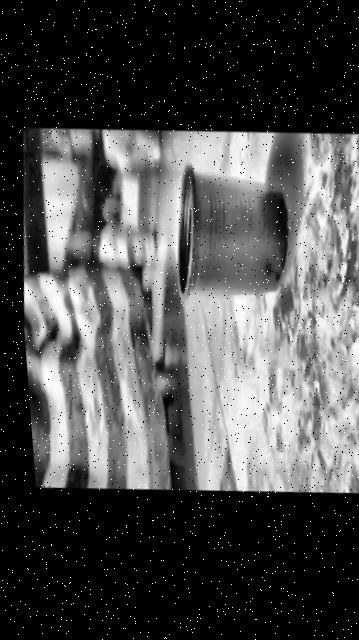pot: (164, 160, 294, 307)
